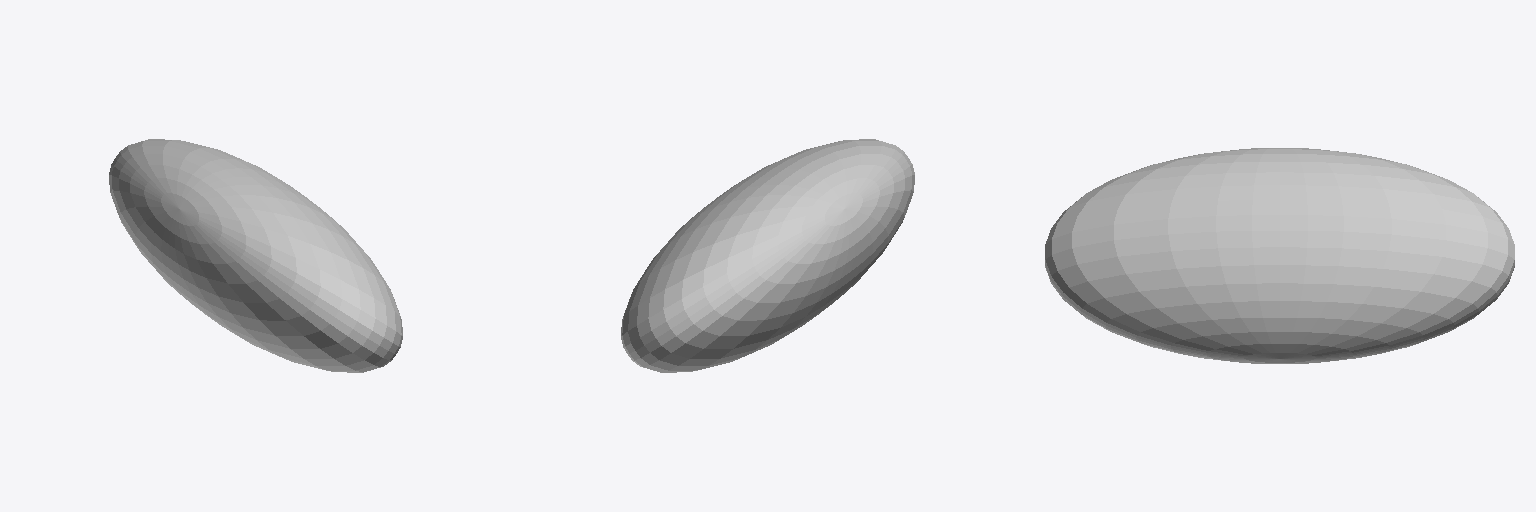
The model's file is spaceSurface.obj.
The picture shows the model from 3 angles: view 1: azimuth 30°, elevation 25°; view 2: azimuth 150°, elevation 25°; view 3: azimuth 270°, elevation 25°; orthographic projection.
Parts seen in each view (by area): view 1: SurfSphere_SurfSphere.001; view 2: SurfSphere_SurfSphere.001; view 3: SurfSphere_SurfSphere.001.
Part boxes in pixels (bbox=[...]): SurfSphere_SurfSphere.001: bbox=[109, 139, 402, 372]; SurfSphere_SurfSphere.001: bbox=[621, 139, 914, 372]; SurfSphere_SurfSphere.001: bbox=[1045, 148, 1514, 363].
Bounding box in the file's own units: 94.7 × 87.91 × 221.